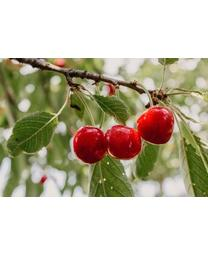cherry: (136, 106, 175, 145), (73, 125, 107, 164), (106, 125, 142, 160)
